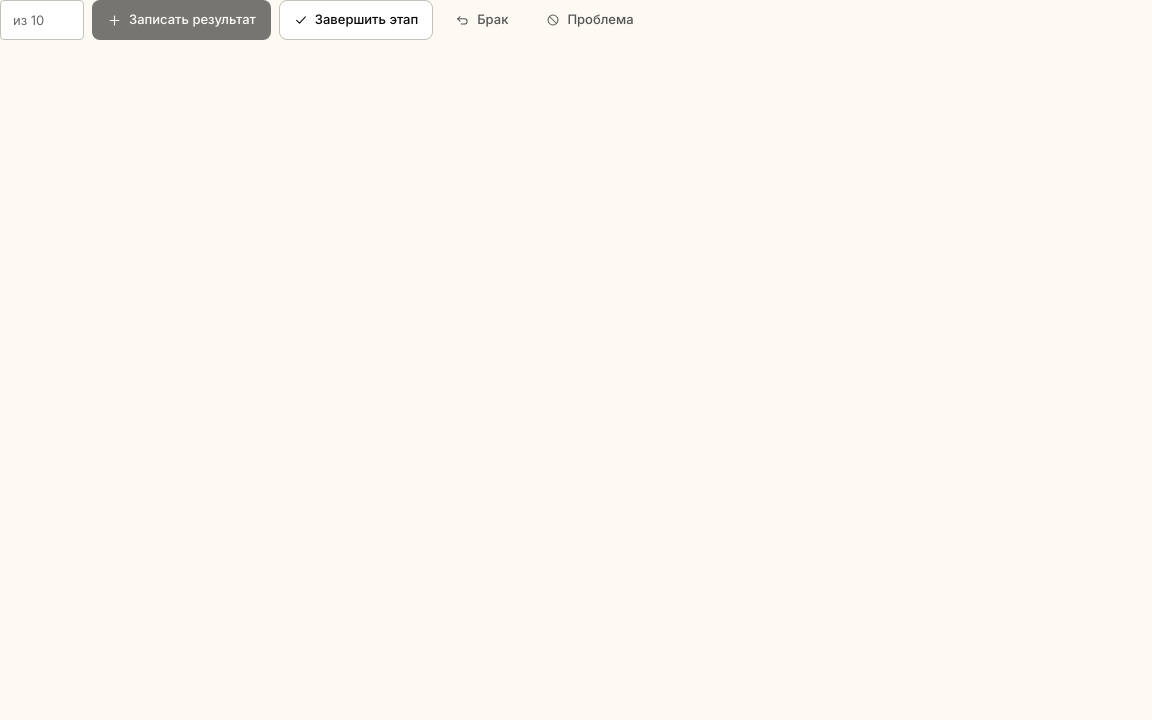
Test: StageActionsPanel — мастер брака › «Далее» заблокировано, пока не заполнены количество и причина
Click the button "Брак". click: click(482, 20)
box: [441,0,523,40]
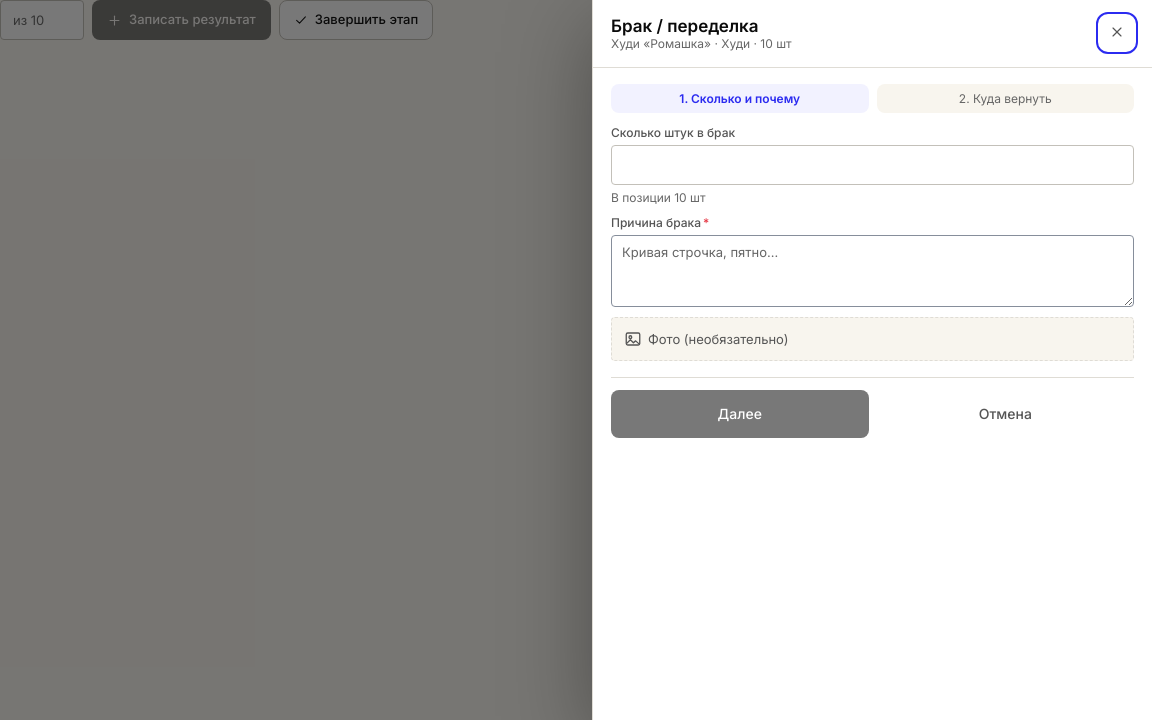
Expected: the button "Далее" is disabled, [611,390,868,438]
Type "3" into the number field labelled "Сколько штук в брак". click: (872, 165)
box: [611,145,1134,185]
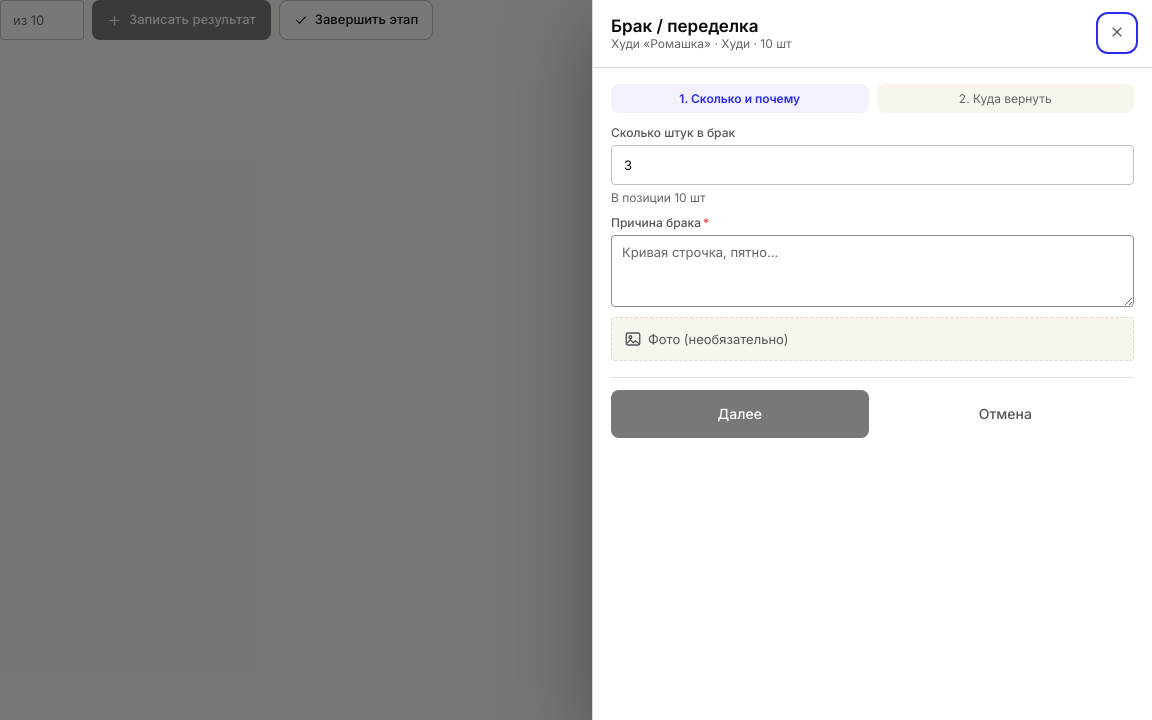
Expected: the button "Далее" is disabled, [611,390,868,438]
Type "Пятно" into the text box labelled "Причина брака*". click: (872, 271)
box: [611,235,1134,307]
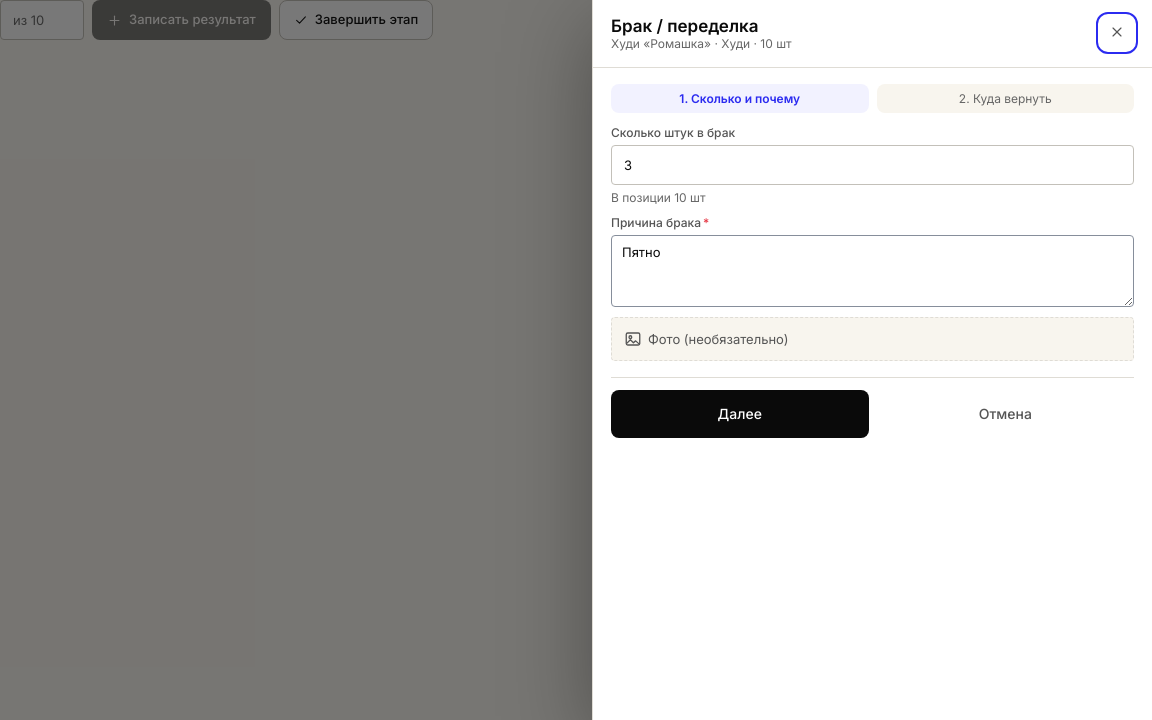
Expected: the button "Далее" is enabled, [611,390,868,438]
